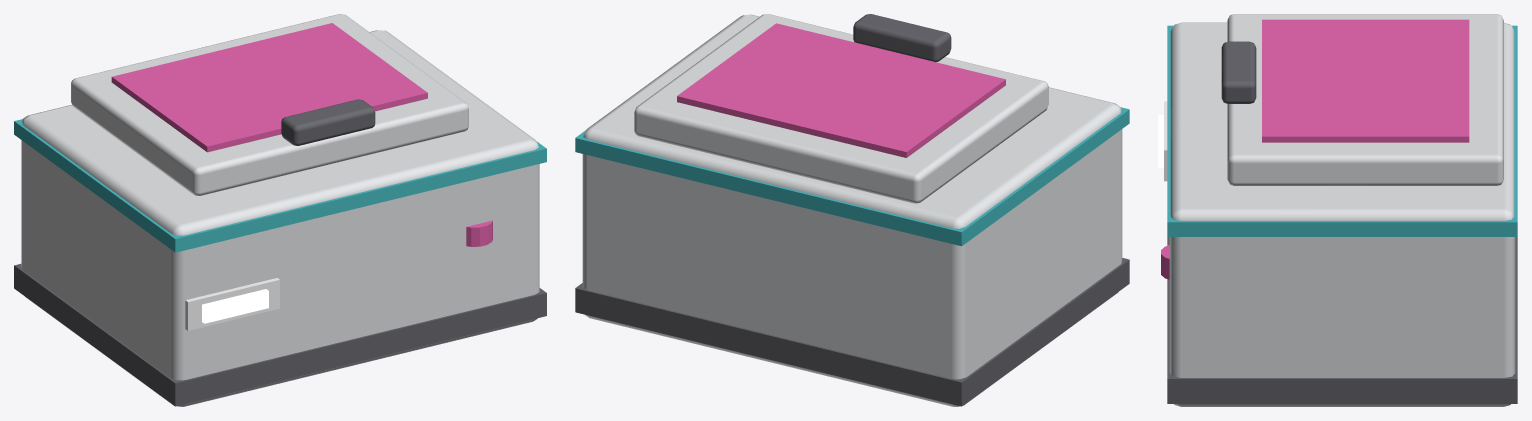
File: tattoo-and-piercing-studio-ultrasonic-cleaner-a114a6d9__34536.glb
The picture shows the model from 3 angles, left to right: view 1: azimuth 30°, elevation 25°; view 2: azimuth 150°, elevation 25°; view 3: azimuth 270°, elevation 25°; orthographic projection. The views are drawn at different scales.
Parts seen in each view (by area): view 1: ultrasonic-cleaner, lid/magenta, lid/steel, lid/dark; view 2: ultrasonic-cleaner, lid/magenta, lid/steel, lid/dark; view 3: ultrasonic-cleaner, lid/magenta, lid/steel, lid/dark.
Boxes of the visible parts, left/top/right/bottom form: ultrasonic-cleaner: left=14, top=30, right=546, bottom=406; lid/magenta: left=111, top=23, right=427, bottom=152; lid/steel: left=71, top=14, right=468, bottom=195; lid/dark: left=281, top=99, right=375, bottom=145; ultrasonic-cleaner: left=575, top=14, right=1129, bottom=406; lid/magenta: left=677, top=23, right=1005, bottom=157; lid/steel: left=634, top=14, right=1048, bottom=203; lid/dark: left=853, top=14, right=951, bottom=61; ultrasonic-cleaner: left=1158, top=22, right=1517, bottom=406; lid/magenta: left=1262, top=19, right=1469, bottom=142; lid/steel: left=1227, top=14, right=1503, bottom=185; lid/dark: left=1221, top=41, right=1256, bottom=103.
Size of the model in its own units: 0.404 by 0.242 by 0.312.
